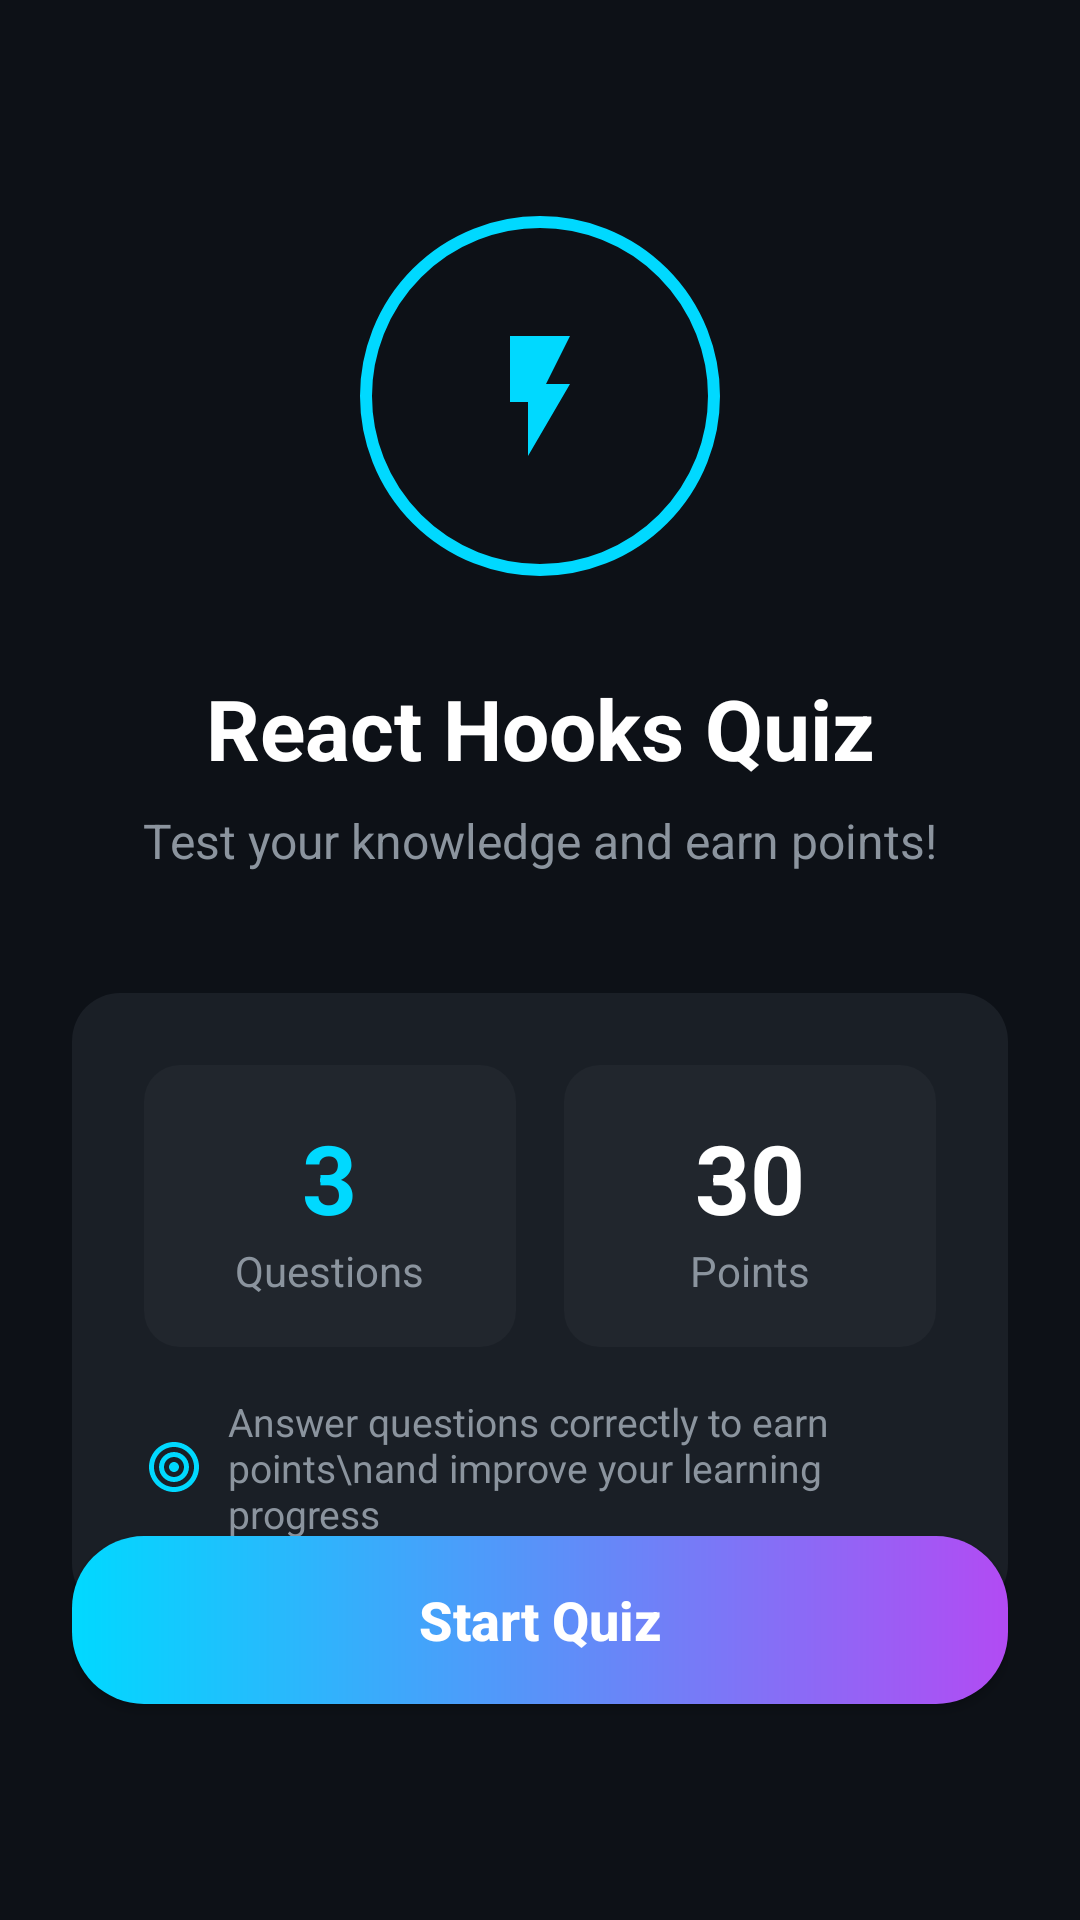

Locate icon controls on the screen. Image size 1080px×1920px, boxes as [x1,y1,x2,y2].
lightning: [510,336,570,456]
target: [149,1442,199,1492]
